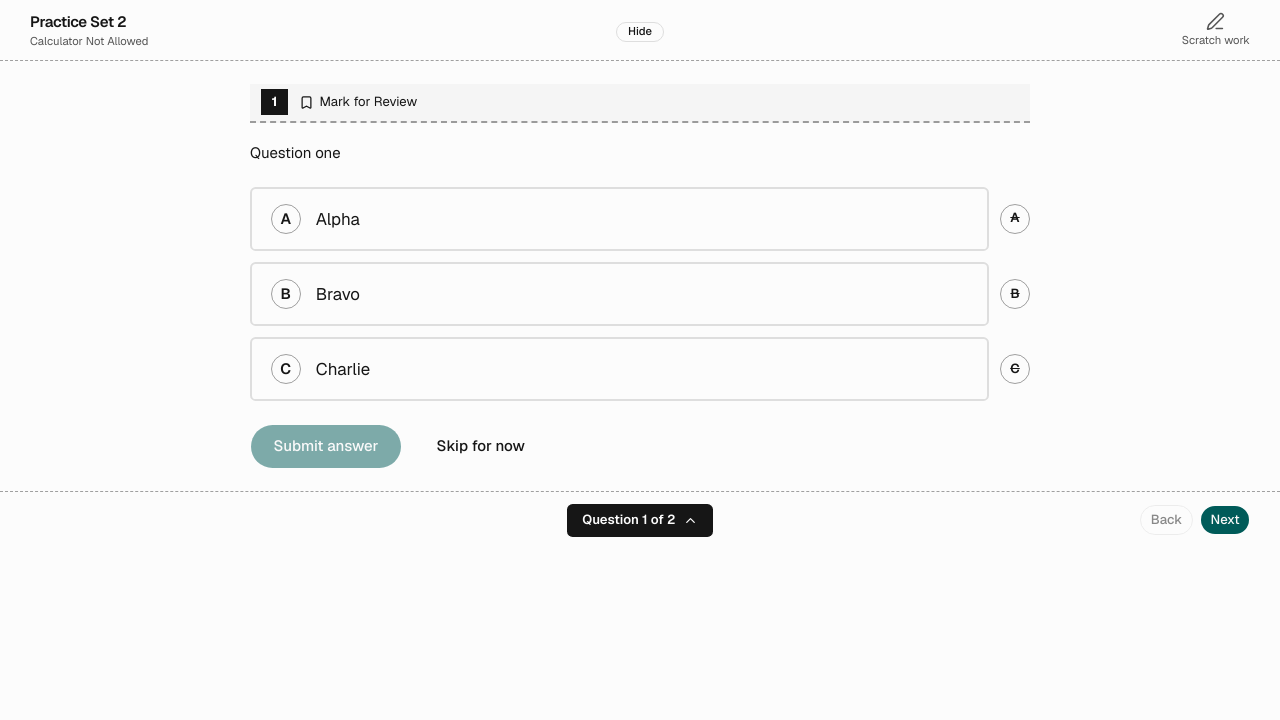
it: SessionRunner — a request that fails › says so beside the controls and retries, instead of staying on Submitting… forever
This screenshot has width=1280, height=720.
Click the button "B Bravo".
click(338, 294)  # box [250,262,989,326]
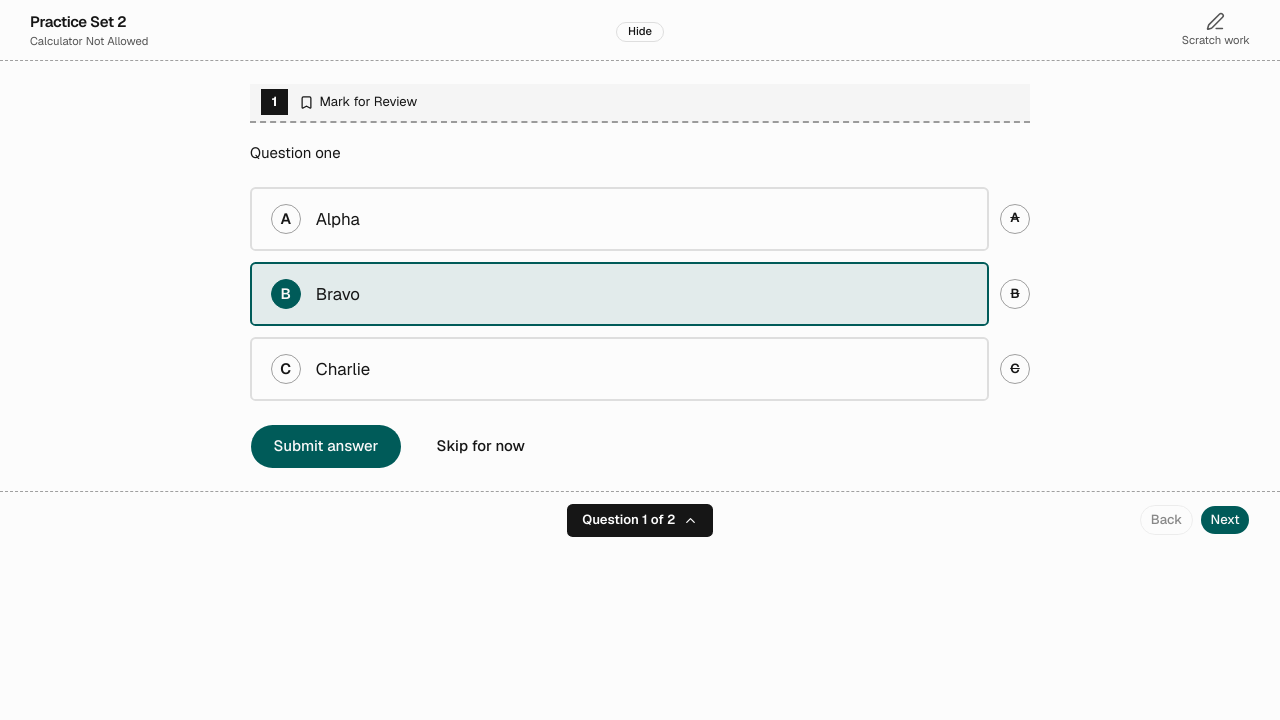
Click the button "Submit answer".
click(326, 446)  # box [250,424,402,469]
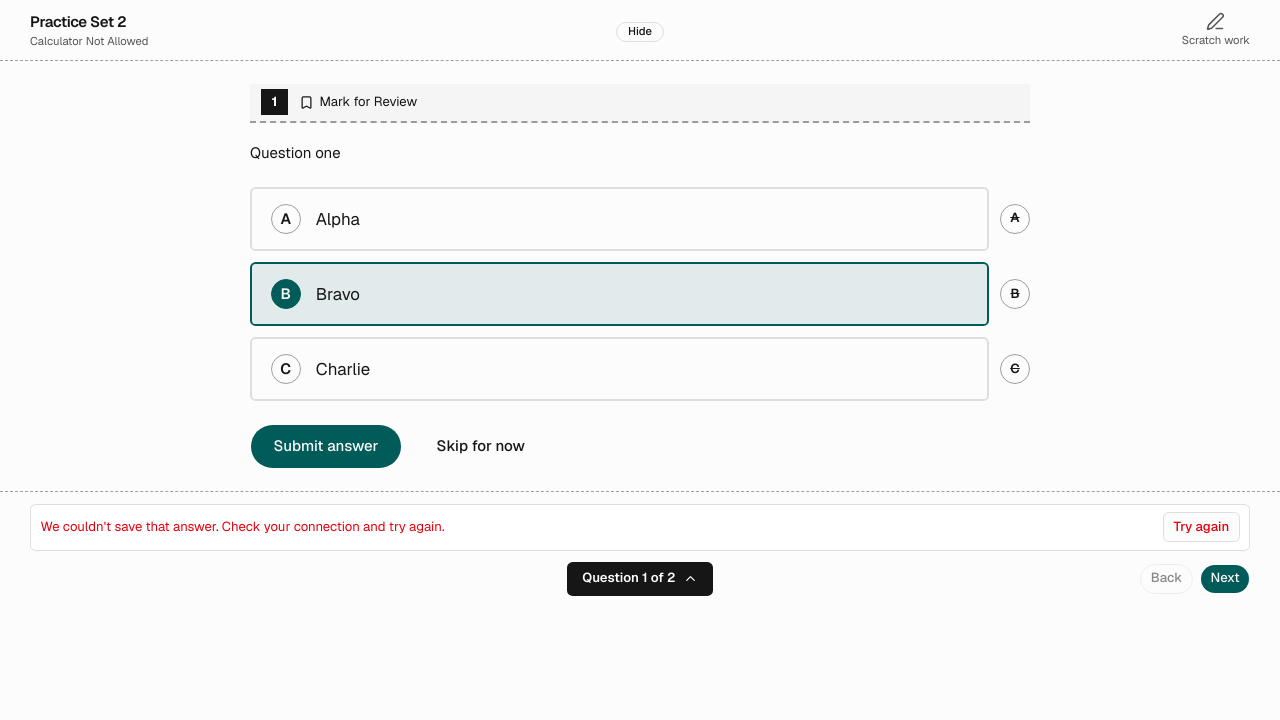
Expected: the button "Submit answer" is enabled, [250,424,402,469]
Expected: the text "couldn't save that answer" is shown, [40,518,445,535]
Click the button "Try again".
click(1201, 527)  # box [1163,512,1240,542]
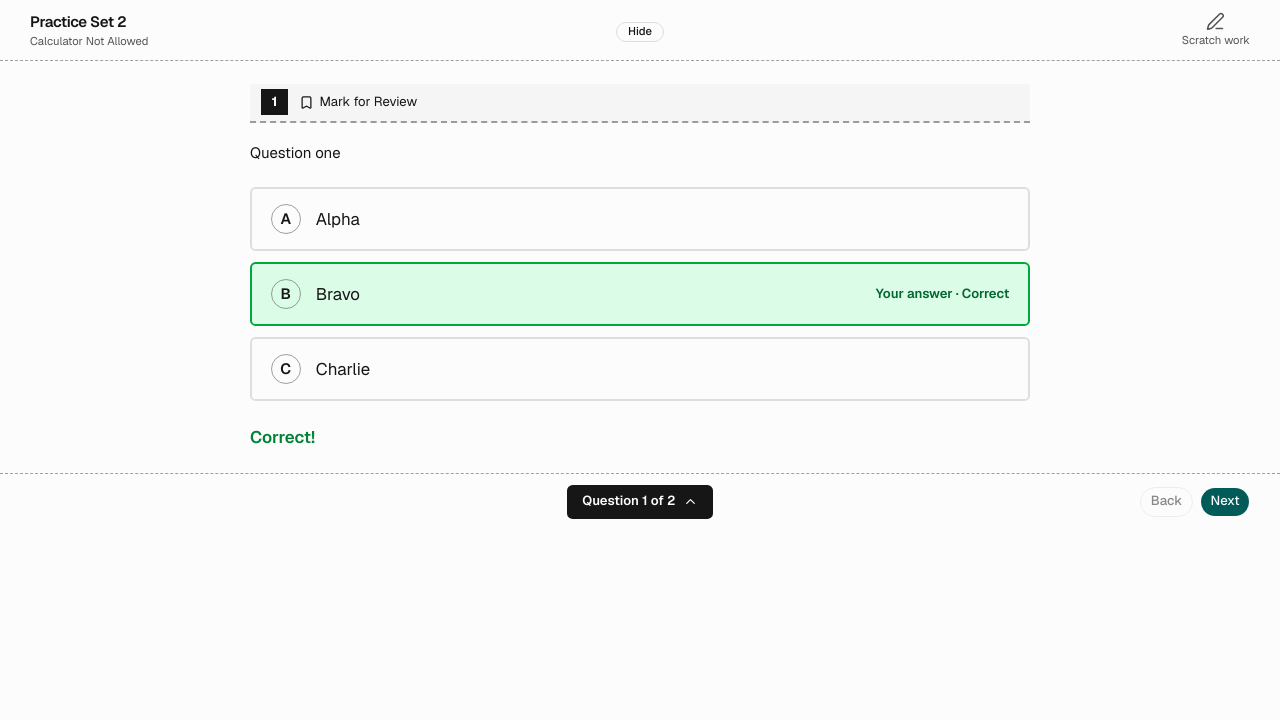
Expected: the text "Correct!" is shown, [250,426,315,448]
Expected: the text "couldn't save that answer" is gone
